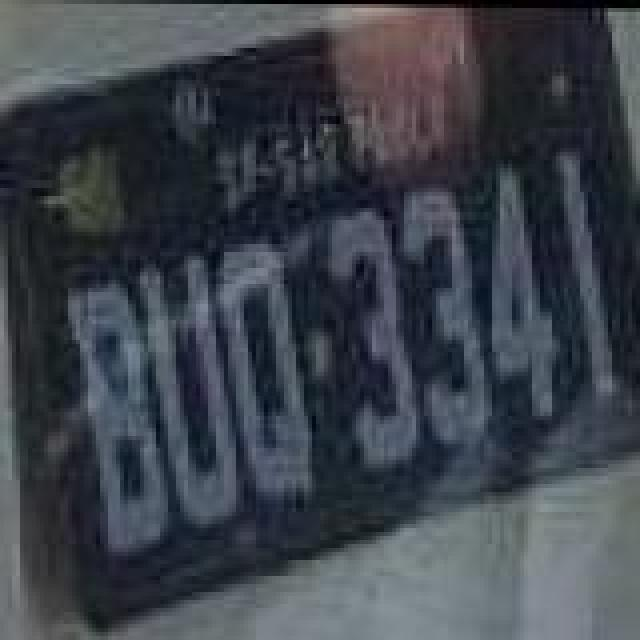1: (558, 146, 626, 394)
3: (328, 208, 424, 472), (396, 190, 492, 446)
4: (490, 166, 566, 422)
B: (66, 276, 174, 560)
Q: (212, 240, 316, 504)
U: (134, 248, 242, 532)
